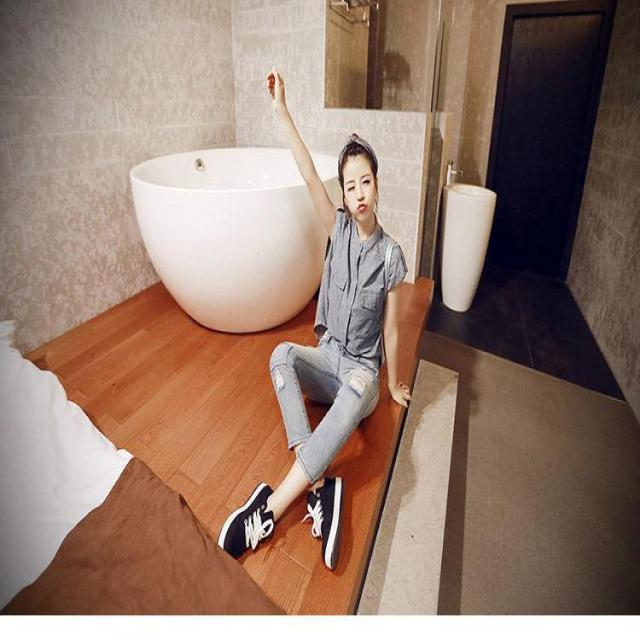short-sleeve-top: (322, 212, 403, 352)
trousers: (273, 326, 374, 494)
